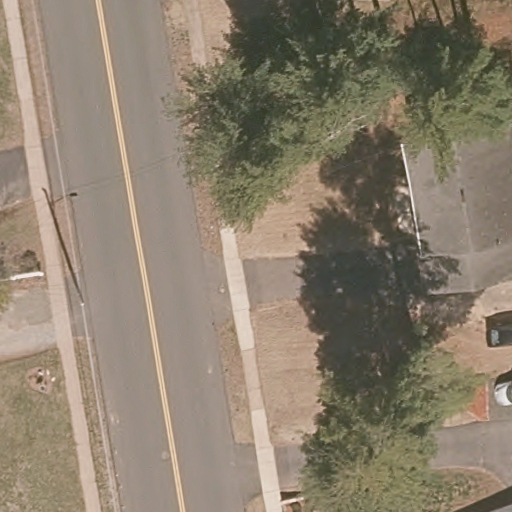DT: (66, 268, 87, 307)
